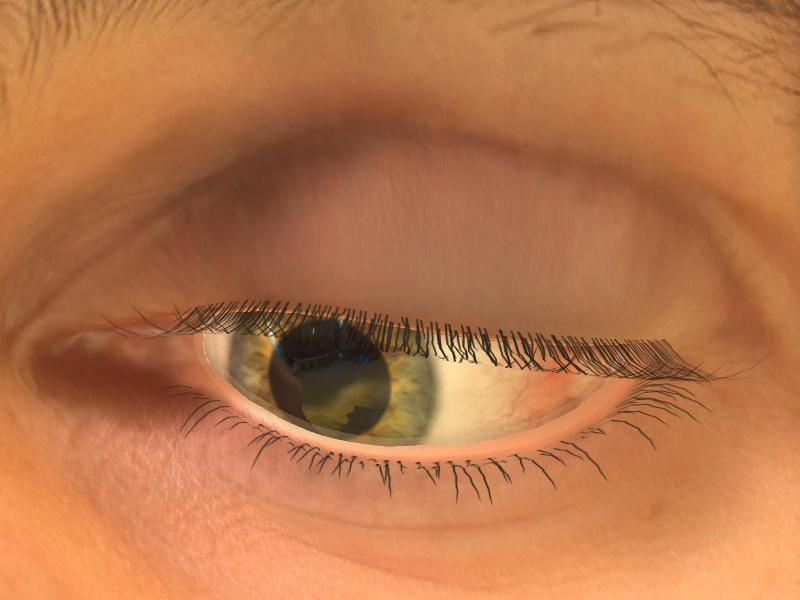eye: (228, 310, 441, 450)
